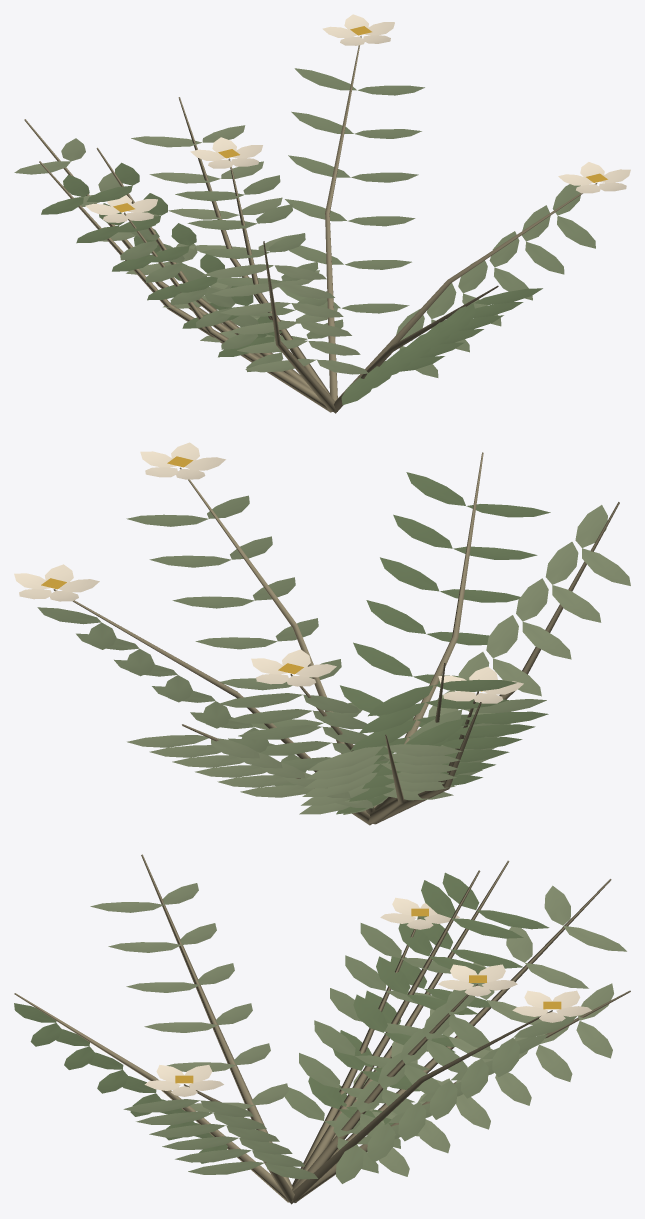
Rendered from CisteSauge_0_High.fbx.
The picture shows the model from 3 angles, top to bottom: view 1: azimuth 30°, elevation 25°; view 2: azimuth 150°, elevation 25°; view 3: azimuth 270°, elevation 25°; orthographic projection. The views are drawn at different scales.
Visible parts, largest first — view 1: CisteSauge_0_High; view 2: CisteSauge_0_High; view 3: CisteSauge_0_High.
Part boxes in pixels (left/top/right/bottom): CisteSauge_0_High: left=14, top=14, right=630, bottom=413; CisteSauge_0_High: left=14, top=442, right=630, bottom=825; CisteSauge_0_High: left=14, top=854, right=630, bottom=1204.
Bounding box in the file's own units: 78.02 × 40.91 × 82.91.
